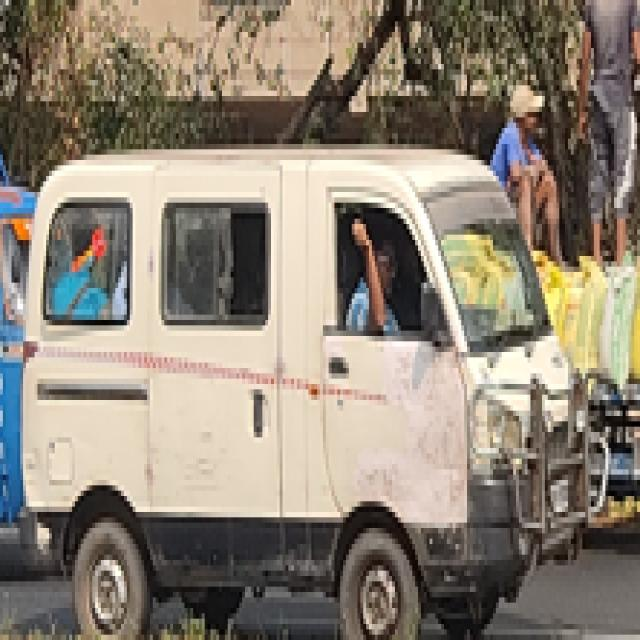van: (20, 144, 588, 640)
